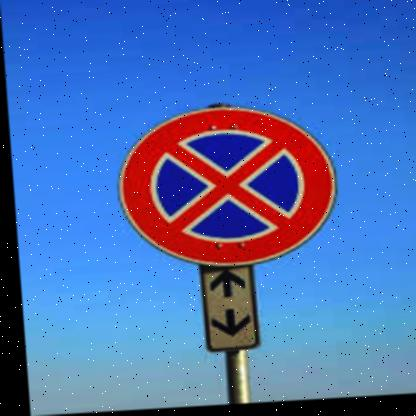No stopping: (113, 103, 328, 272)
